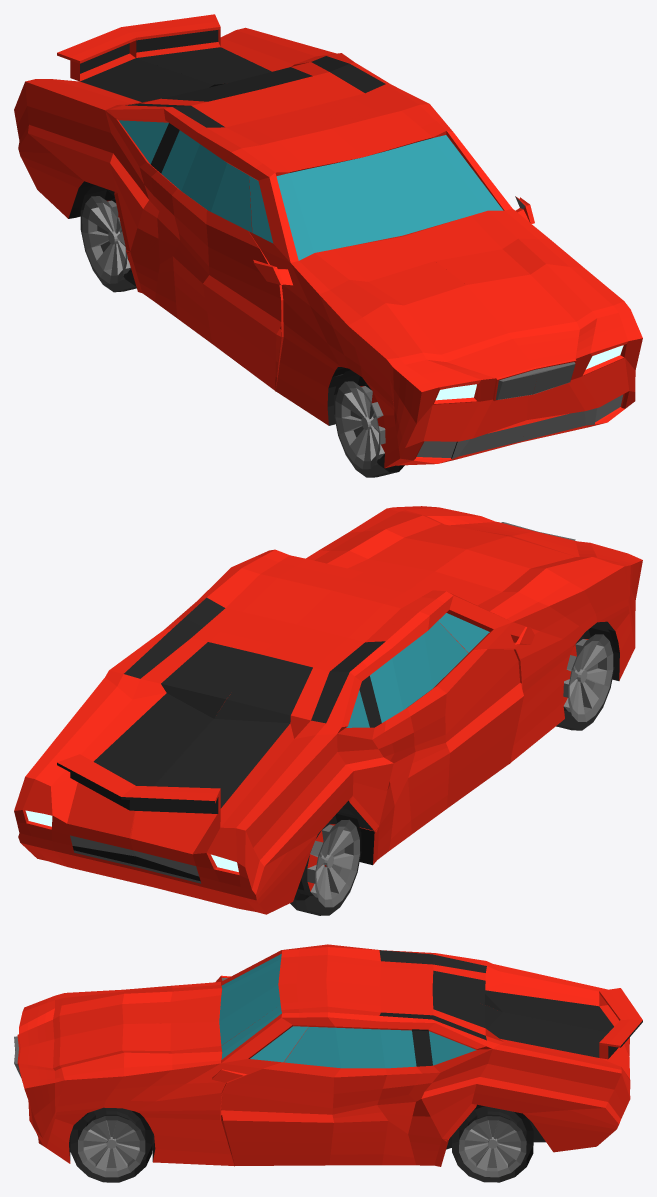
File: MuscleCar.gltf
3 renders of one model, top to bottom at view 1: azimuth 30°, elevation 25°; view 2: azimuth 150°, elevation 25°; view 3: azimuth 270°, elevation 25°, orthographic. The views are drawn at different scales.
Parts seen in each view (by area): view 1: Body; view 2: Body; view 3: Body.
Boxes of the visible parts, left/top/right/bottom form: Body: left=14, top=14, right=642, bottom=477; Body: left=14, top=506, right=642, bottom=915; Body: left=14, top=944, right=642, bottom=1182.
Size of what is drawn, in the model's own units: 1.67 by 1.28 by 4.53.
